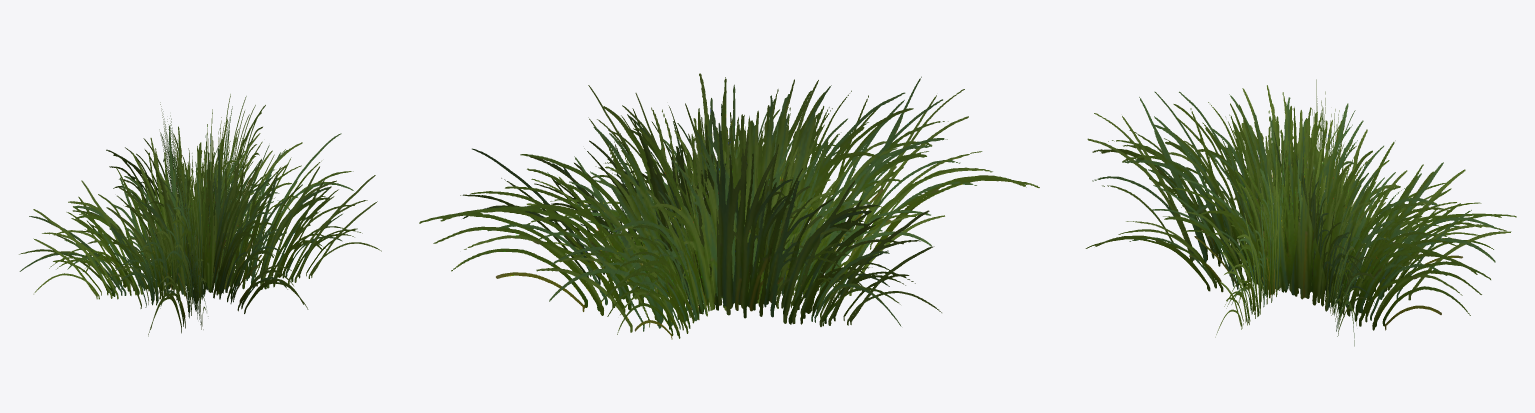
The model's file is miracle-green-grass-2.glb.
The picture shows the model from 3 angles, left to right: view 1: azimuth 30°, elevation 25°; view 2: azimuth 150°, elevation 25°; view 3: azimuth 270°, elevation 25°; orthographic projection. The views are drawn at different scales.
Visible parts, largest first — view 1: Grass large 2_GrassAtlas_0; view 2: Grass large 2_GrassAtlas_0; view 3: Grass large 2_GrassAtlas_0.
Part boxes in pixels (x1=…): Grass large 2_GrassAtlas_0: x1=19, y1=94, x2=381, y2=336; Grass large 2_GrassAtlas_0: x1=419, y1=73, x2=1039, y2=339; Grass large 2_GrassAtlas_0: x1=1085, y1=79, x2=1516, y2=346.
Size of the model in its own units: 0.6645 by 0.33 by 0.6462.
Materials: 1 (1 with a texture image).
